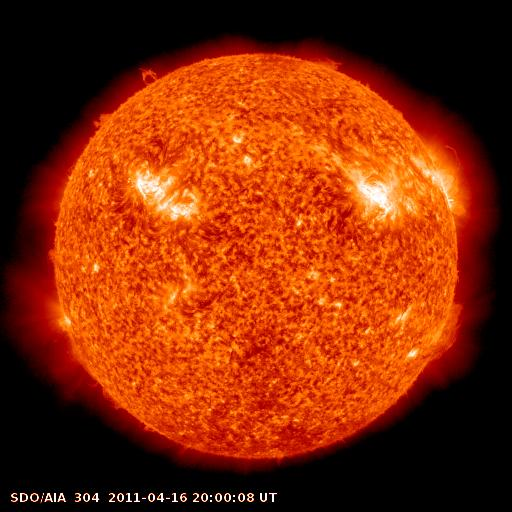prominence: (420, 295, 475, 369), (87, 373, 132, 416), (131, 54, 171, 93), (83, 102, 123, 138), (303, 45, 349, 74), (38, 242, 73, 275)
